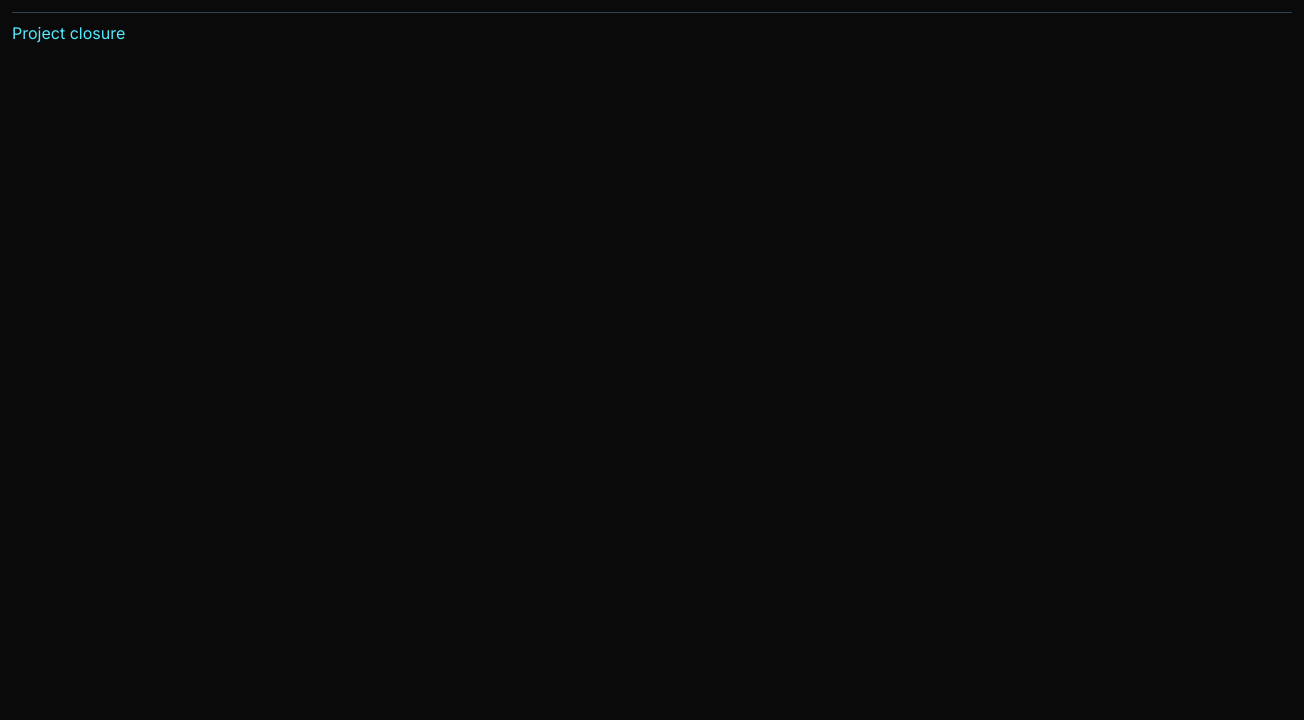
Test: holds attestation when evidence loading fails
What coordinates should you click on to do the following:
click the button "Project closure"
I would click on:
 (69, 33)
Its box is [12, 21, 125, 45].
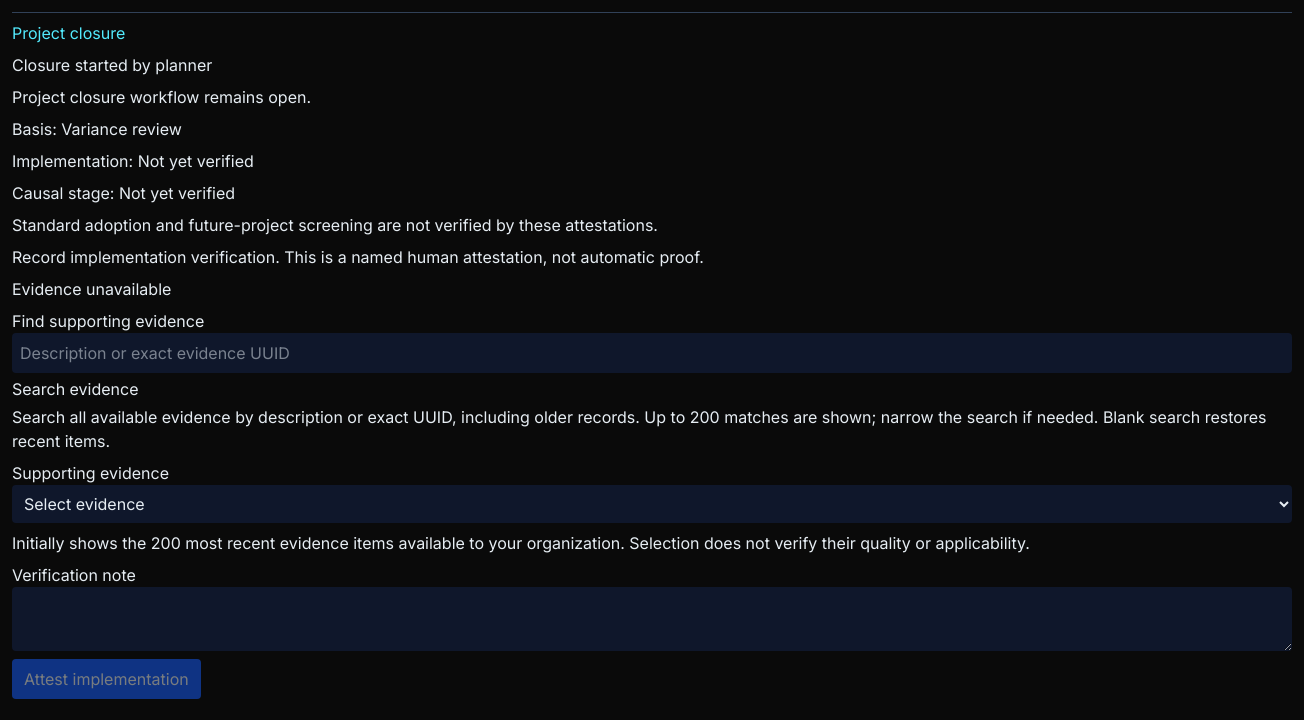
Result: the message reads "Evidence unavailable" at [12, 279, 171, 299]
Result: the button "Attest implementation" is disabled at [12, 659, 201, 699]
